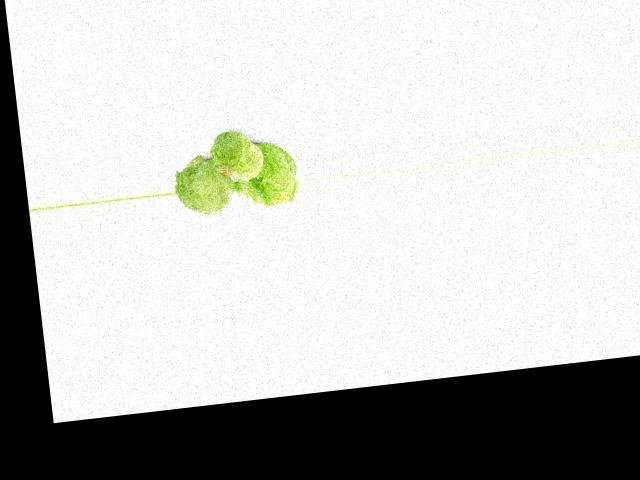lettuce: (239, 143, 297, 205)
